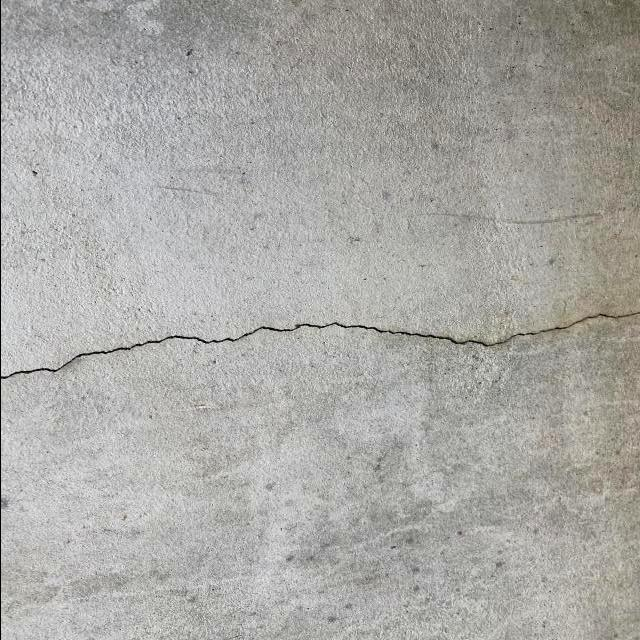SurfaceCrack: (0, 264, 639, 410)
